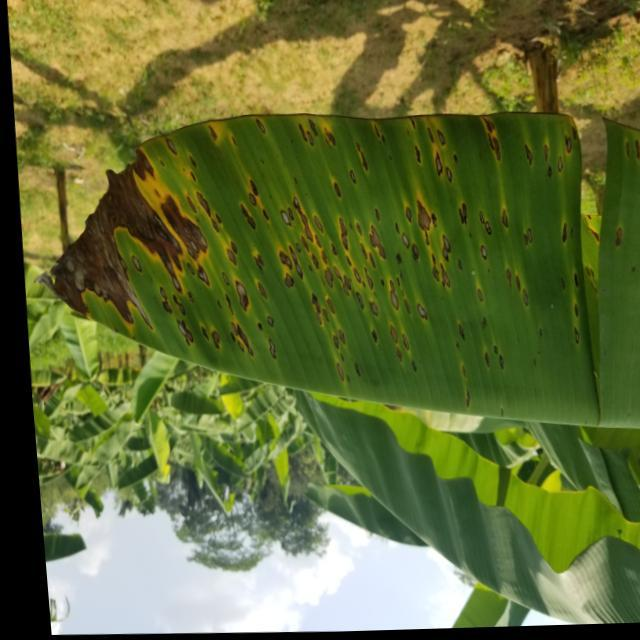Early_rust: (35, 83, 640, 447)
